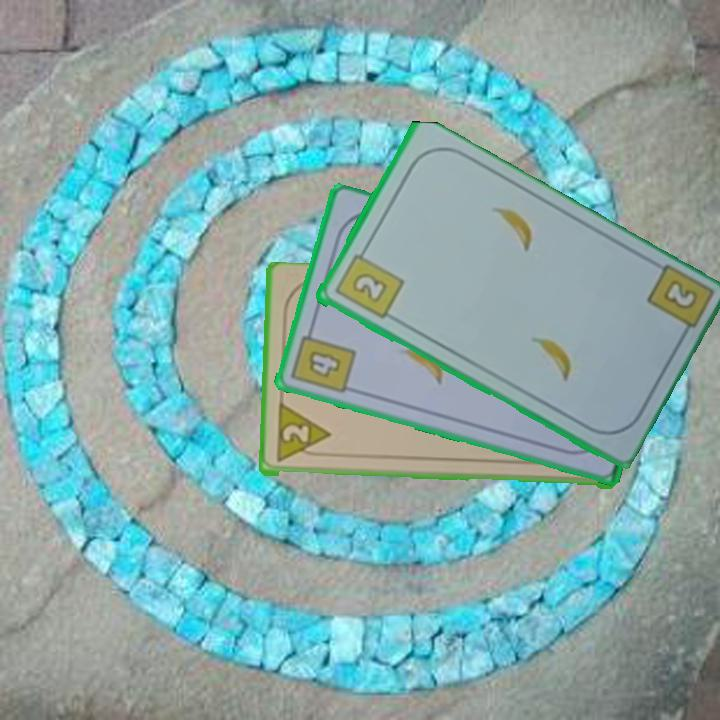2b: (331, 243, 406, 322), (659, 276, 697, 310)
2p: (272, 403, 333, 466)
4b: (288, 322, 359, 397)
